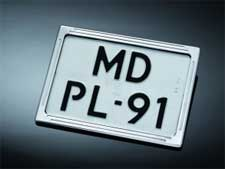number_plate: (32, 21, 202, 151)
